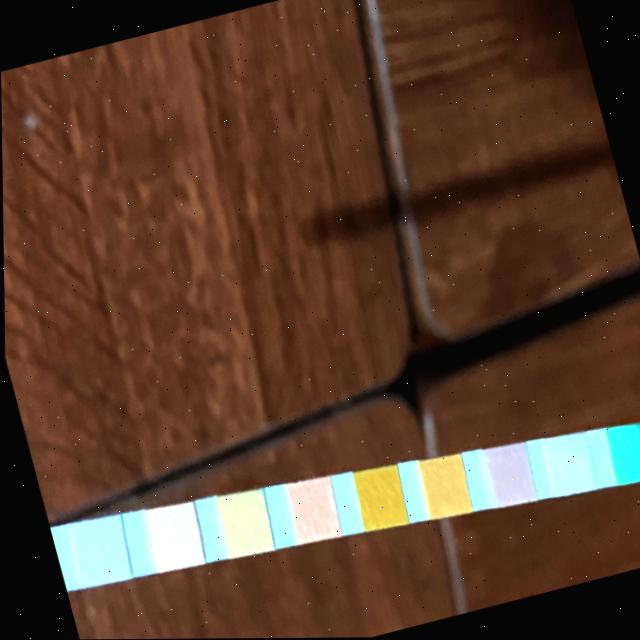Bilirubin: (542, 430, 594, 493)
Blood: (351, 464, 406, 528)
Glucose: (604, 420, 640, 483)
Ketone: (481, 442, 534, 503)
Nitrite: (67, 515, 130, 584)
Protein: (213, 487, 270, 556)
SpGravity: (415, 453, 468, 517)
Urobilinogen: (143, 499, 203, 570)
pH: (288, 476, 338, 539)
